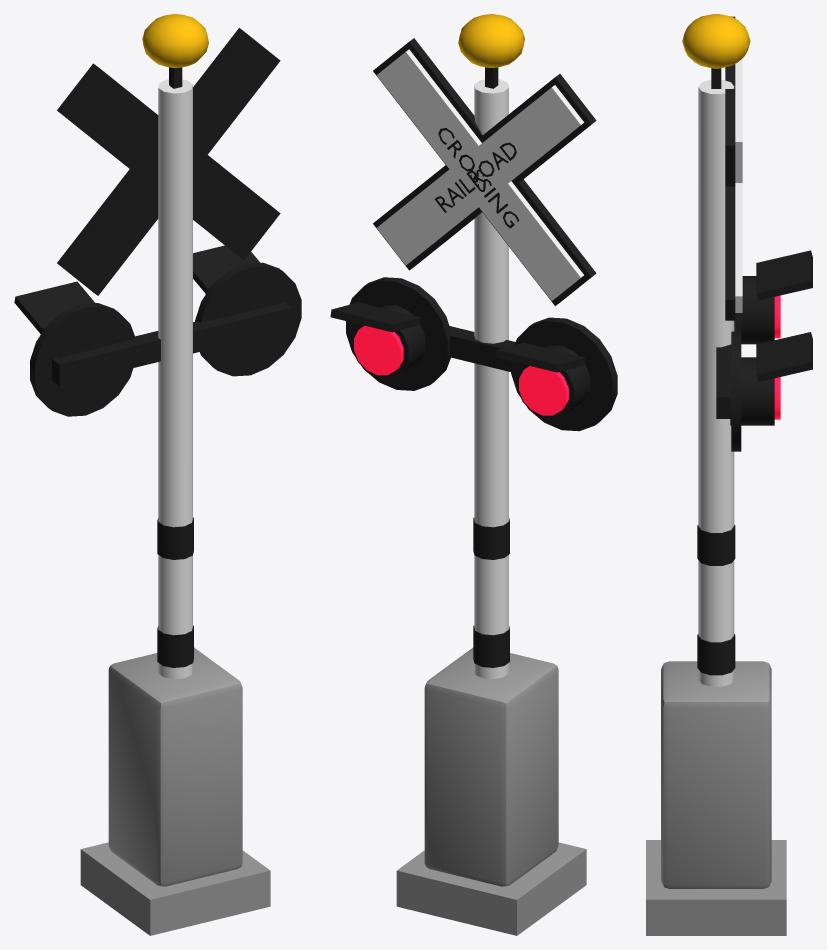
Rendered from roadevents_rail_signal.glb.
3 views of the same model, side by side, from view 1: azimuth 30°, elevation 25°; view 2: azimuth 150°, elevation 25°; view 3: azimuth 270°, elevation 25° (orthographic).
Parts seen in each view (by area): view 1: RailSignal; view 2: RailSignal; view 3: RailSignal.
Part boxes in pixels (x1,y1,x2,y2): RailSignal: (14,14,301,935); RailSignal: (330,14,617,935); RailSignal: (646,14,812,935).
Bounding box in the file's own units: 1.55 × 4.88 × 0.8306.
